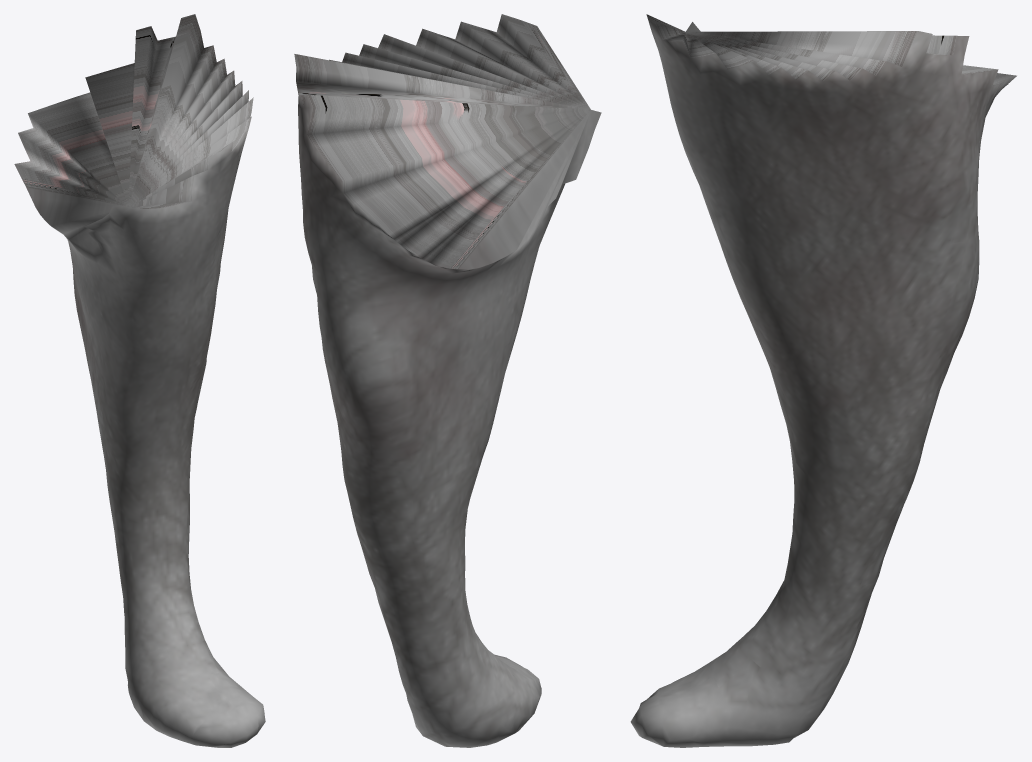
File: pataD_left.obj
The picture shows the model from 3 angles, left to right: view 1: azimuth 30°, elevation 25°; view 2: azimuth 150°, elevation 25°; view 3: azimuth 270°, elevation 25°; orthographic projection. The views are drawn at different scales.
Visible parts, largest first — view 1: pataD_left; view 2: pataD_left; view 3: pataD_left.
Part boxes in pixels (<box>): pataD_left: <box>14,14,265,747</box>; pataD_left: <box>294,14,601,747</box>; pataD_left: <box>630,14,1016,747</box>.
Size of the model in its own units: 1.02 by 3.34 by 1.55.
Materials: 1 (1 with a texture image).
